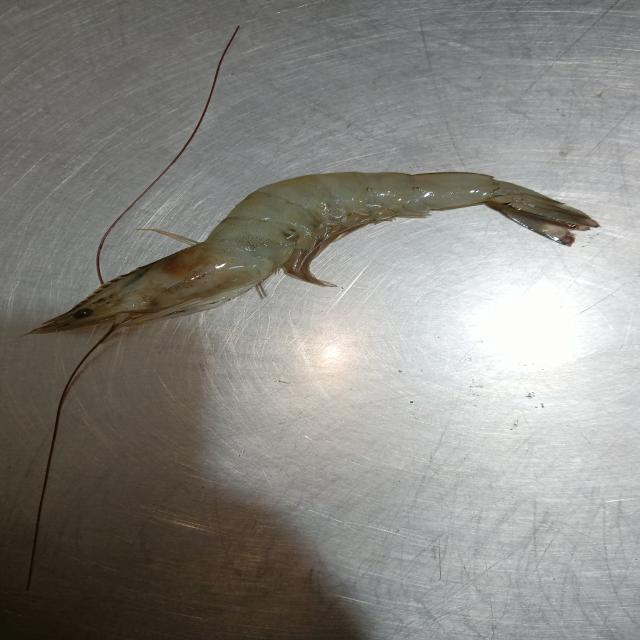shrimp: (32, 173, 599, 331)
